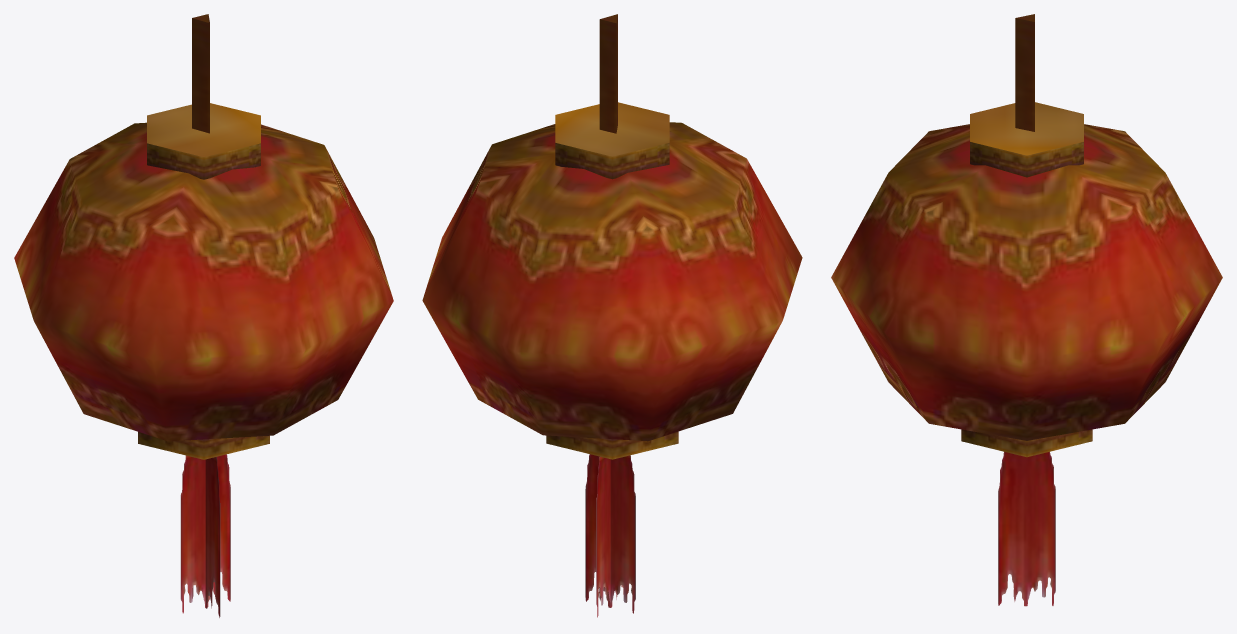
Rendered from szc_object_23denglong_04.FBX.
The picture shows the model from 3 angles, left to right: view 1: azimuth 30°, elevation 25°; view 2: azimuth 150°, elevation 25°; view 3: azimuth 270°, elevation 25°; orthographic projection.
Parts seen in each view (by area): view 1: szc_object_denglong04_deng, szc_object_denglong04_sui; view 2: szc_object_denglong04_deng, szc_object_denglong04_sui; view 3: szc_object_denglong04_deng, szc_object_denglong04_sui.
Part boxes in pixels (bbox=[...]): szc_object_denglong04_deng: bbox=[14, 14, 393, 459]; szc_object_denglong04_sui: bbox=[180, 454, 230, 617]; szc_object_denglong04_deng: bbox=[422, 14, 802, 459]; szc_object_denglong04_sui: bbox=[585, 454, 635, 617]; szc_object_denglong04_deng: bbox=[831, 14, 1222, 457]; szc_object_denglong04_sui: bbox=[998, 452, 1055, 606].
Bounding box in the file's own units: 23.14 × 38.3 × 23.14.
